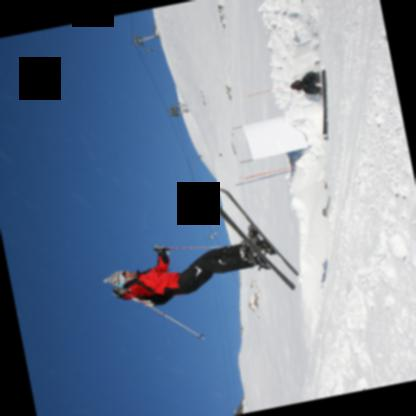backpack: (110, 278, 173, 306)
